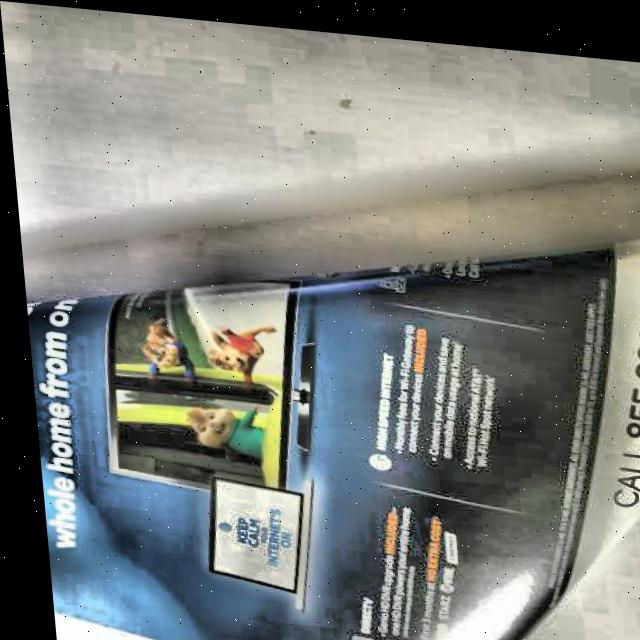paper: (16, 176, 640, 640)
